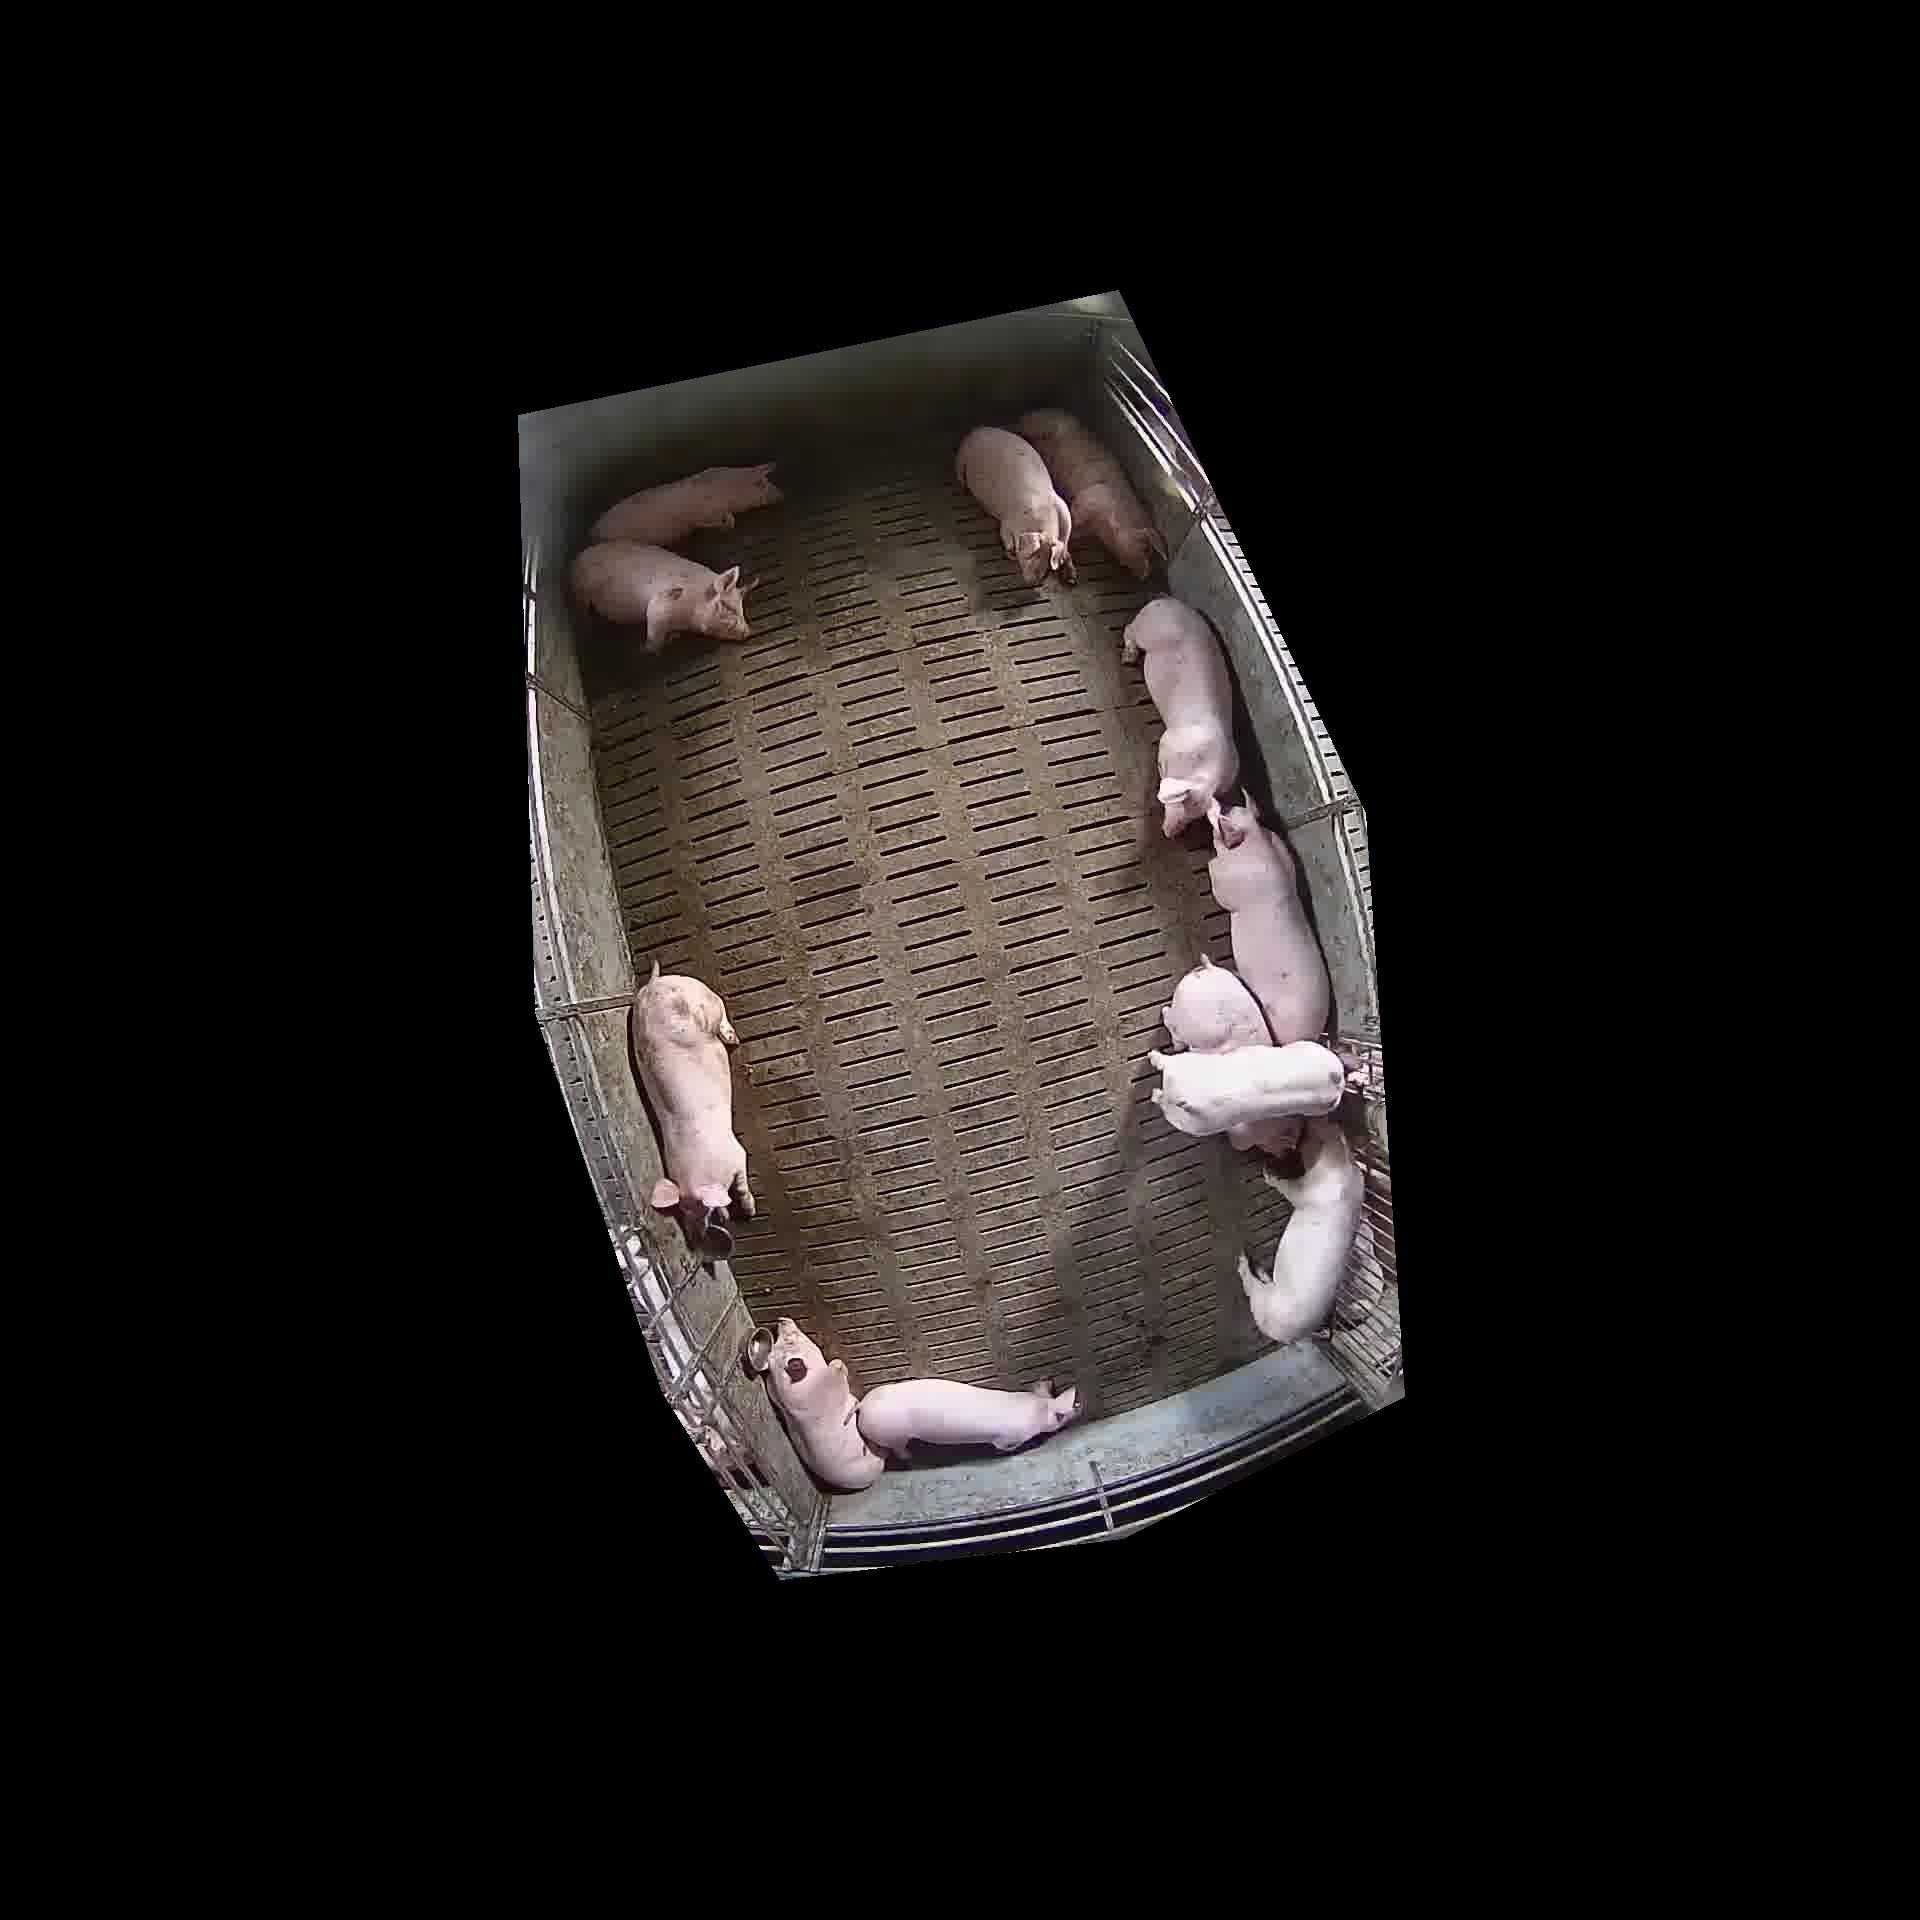pig: (767, 1317, 1080, 1489), (631, 964, 753, 1259), (1210, 795, 1329, 1044), (1238, 1118, 1363, 1342), (1124, 596, 1238, 835), (1020, 408, 1166, 577), (767, 1317, 883, 1489), (571, 540, 749, 651), (956, 427, 1074, 584), (1150, 1041, 1343, 1136), (858, 1378, 1080, 1456), (591, 462, 781, 547), (1162, 956, 1271, 1051)
